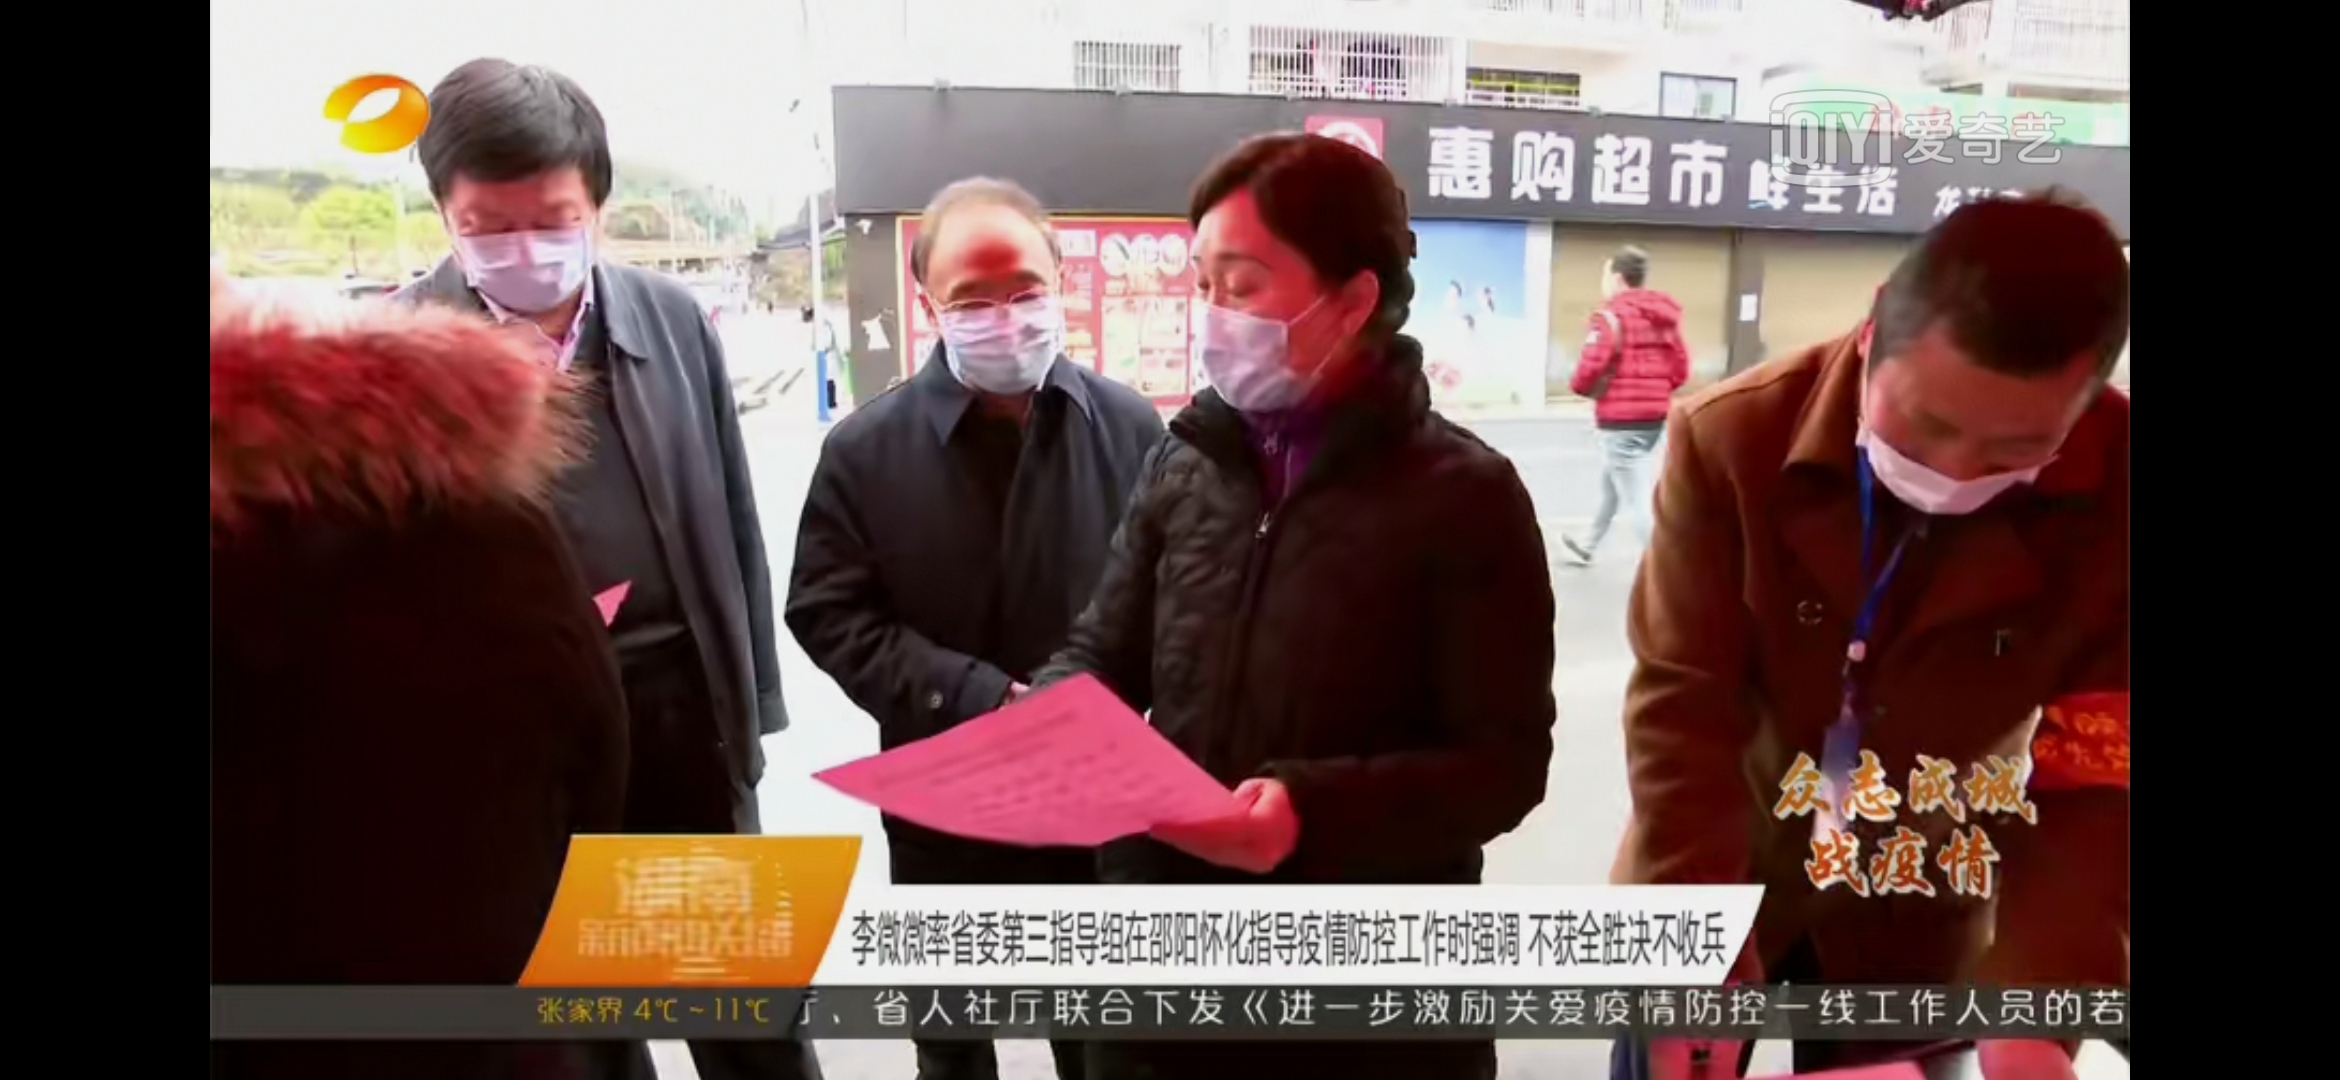correctlyWear: (1851, 301, 2074, 516), (1177, 228, 1382, 424), (907, 246, 1067, 395), (451, 154, 588, 313)
noWear: (1601, 260, 1630, 298)
